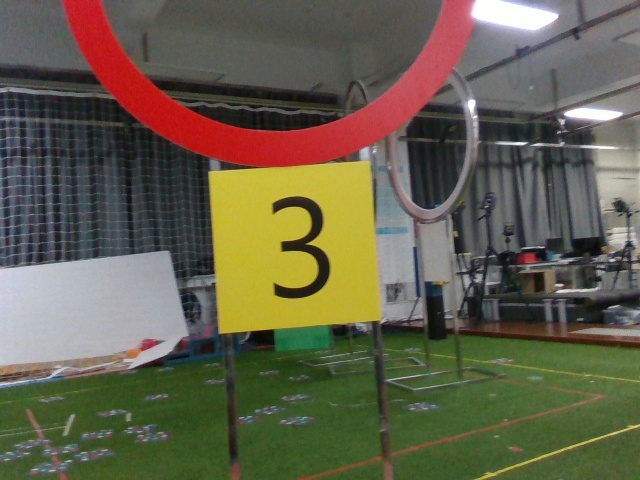target: (214, 171, 371, 325)
